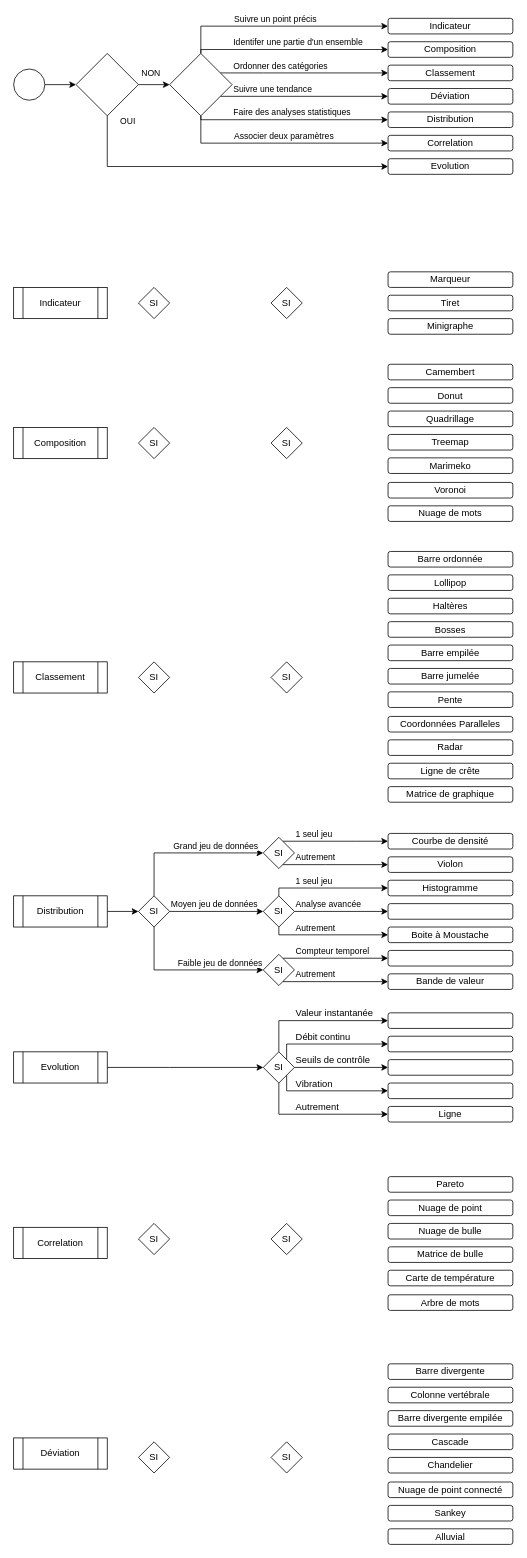
This 527x1558 diagram has some shape labels left out. The centre of each missing label's shape, as x and y in pixels:
"Carte de fréquentation" belongs at pixel 450 958.
"Horizon" belongs at pixel 450 1067.
"Jauge" belongs at pixel 450 1020.
"Objectif ?" belongs at pixel 200 84.
"Ruisseau" belongs at pixel 450 1043.
"Sismographe" belongs at pixel 450 1090.
"Temps Réel ?" belongs at pixel 106 84.
"Valeur Lettrée" belongs at pixel 450 911.
